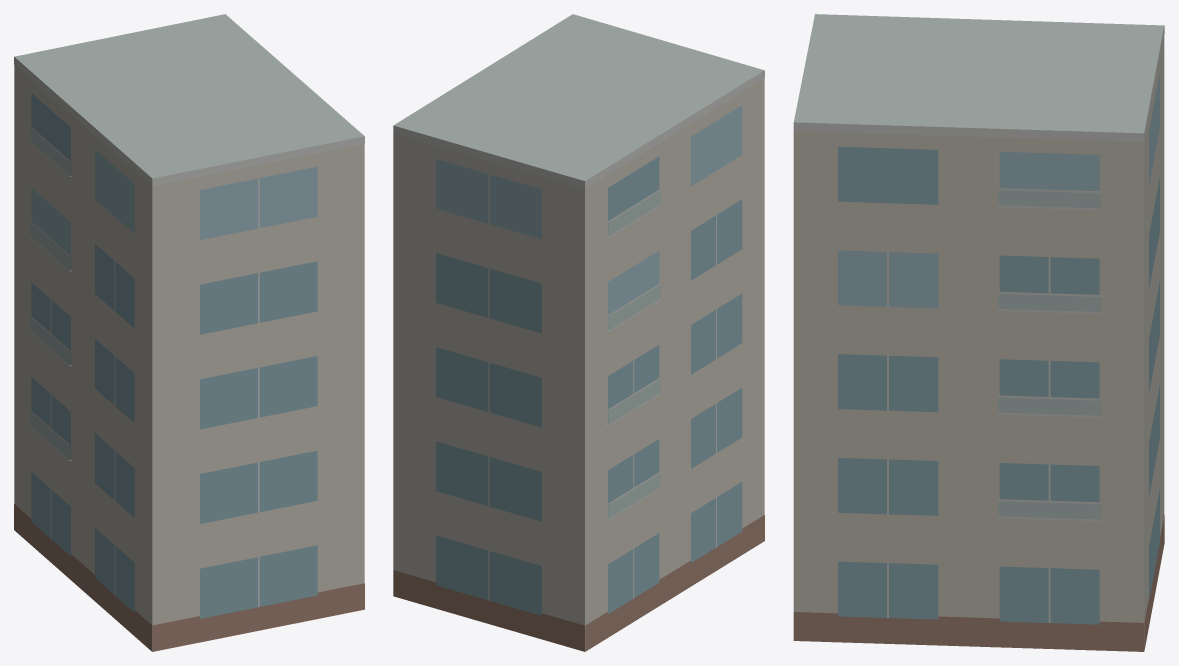
Rendered from survey-upis-32957650.glb.
3 renders of one model, left to right at view 1: azimuth 30°, elevation 25°; view 2: azimuth 150°, elevation 25°; view 3: azimuth 270°, elevation 25°, orthographic. The views are drawn at different scales.
Parts seen in each view (by area): view 1: survey-upis-32957650.tmp; view 2: survey-upis-32957650.tmp; view 3: survey-upis-32957650.tmp.
Part boxes in pixels (x1,y1,x2,y2): survey-upis-32957650.tmp: [14, 14, 364, 651]; survey-upis-32957650.tmp: [393, 14, 764, 651]; survey-upis-32957650.tmp: [793, 14, 1164, 651].
Bounding box in the file's own units: 7.24 × 14.65 × 9.5.
